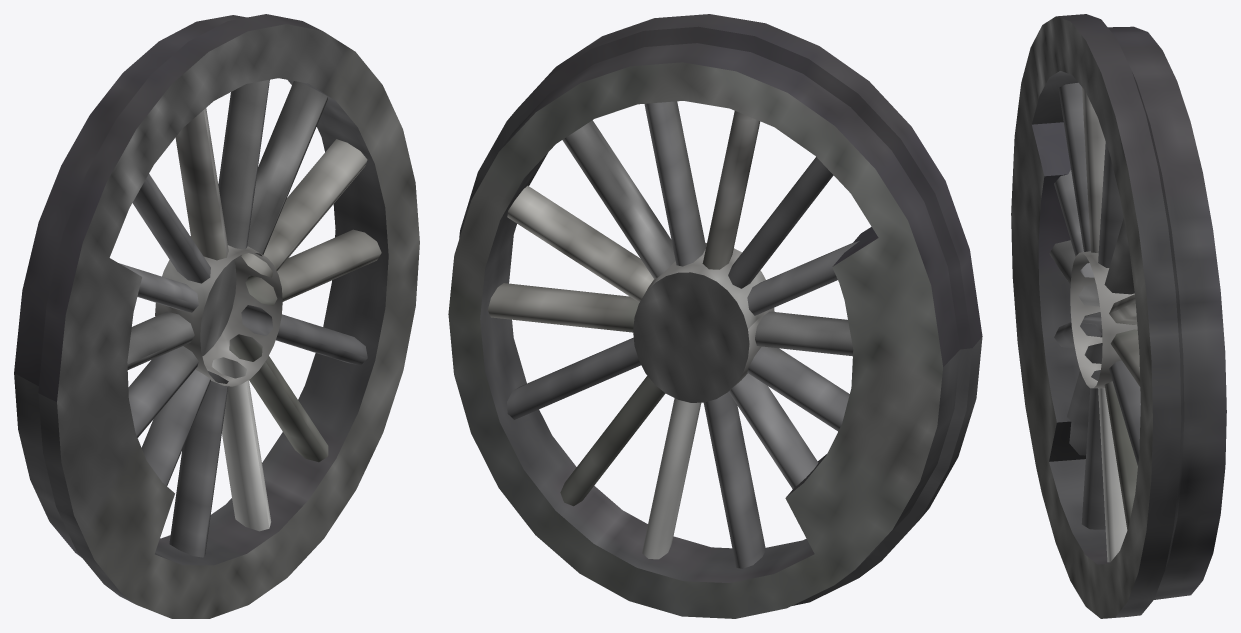
Rendered from LlantaIzq3.obj.
3 renders of one model, left to right at view 1: azimuth 30°, elevation 25°; view 2: azimuth 150°, elevation 25°; view 3: azimuth 270°, elevation 25°, orthographic. The views are drawn at different scales.
Visible parts, largest first — view 1: LlantaIzq3; view 2: LlantaIzq3; view 3: LlantaIzq3.
Boxes of the visible parts, x1,y1,x2,y2 form: LlantaIzq3: (14,14,419,618); LlantaIzq3: (448,14,982,618); LlantaIzq3: (1011,14,1226,618).
Bounding box in the file's own units: 0.3157 × 0.3939 × 0.1362.
Materials: 1 (1 with a texture image).
